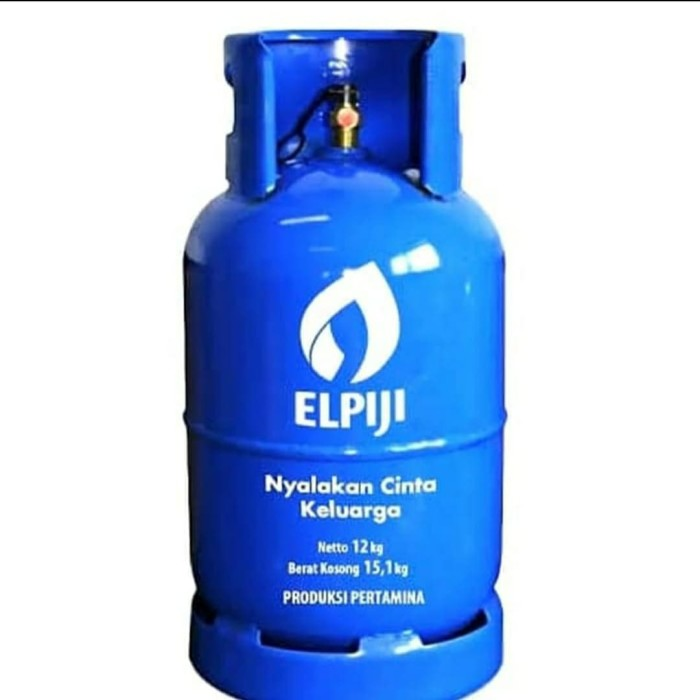blue_gas: (185, 24, 513, 700)
